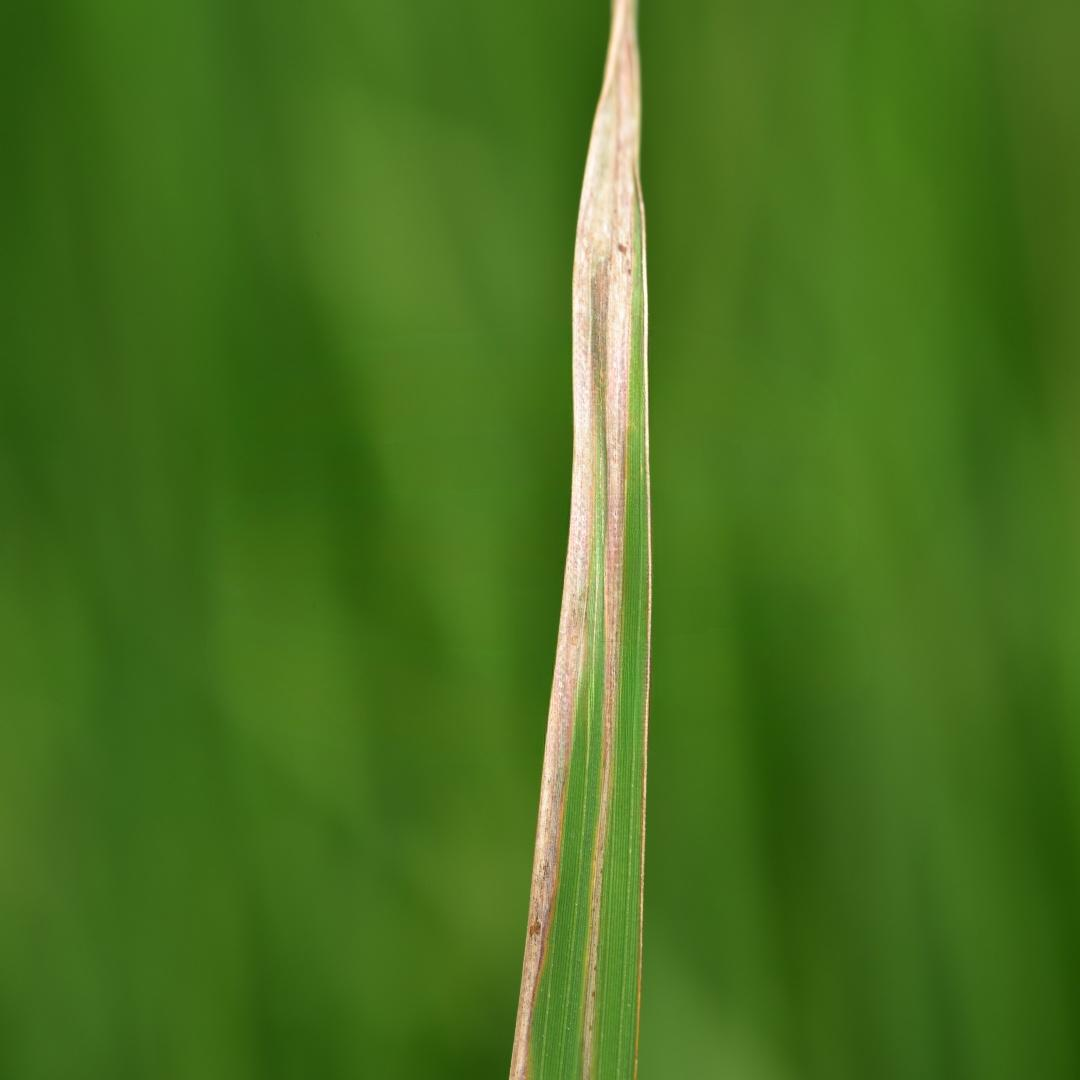BLB: (511, 0, 640, 1078)
LEAF: (510, 0, 652, 1079)
